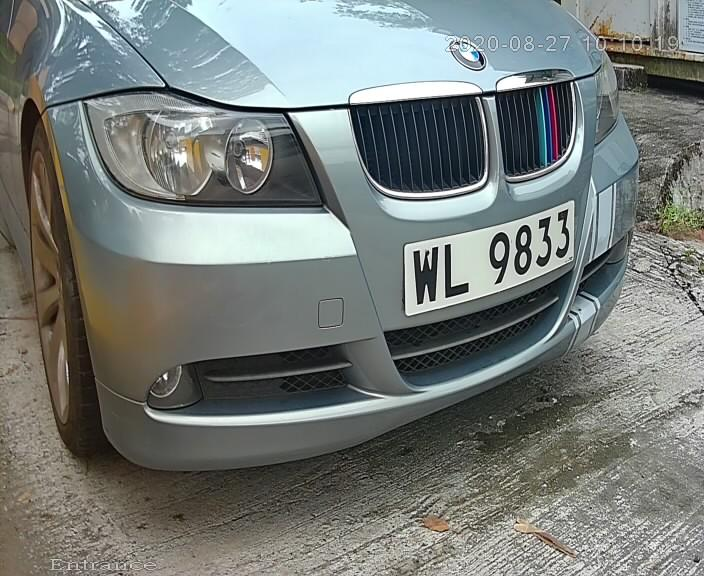Car: (29, 3, 654, 479)
License Plate: (400, 199, 579, 330)
